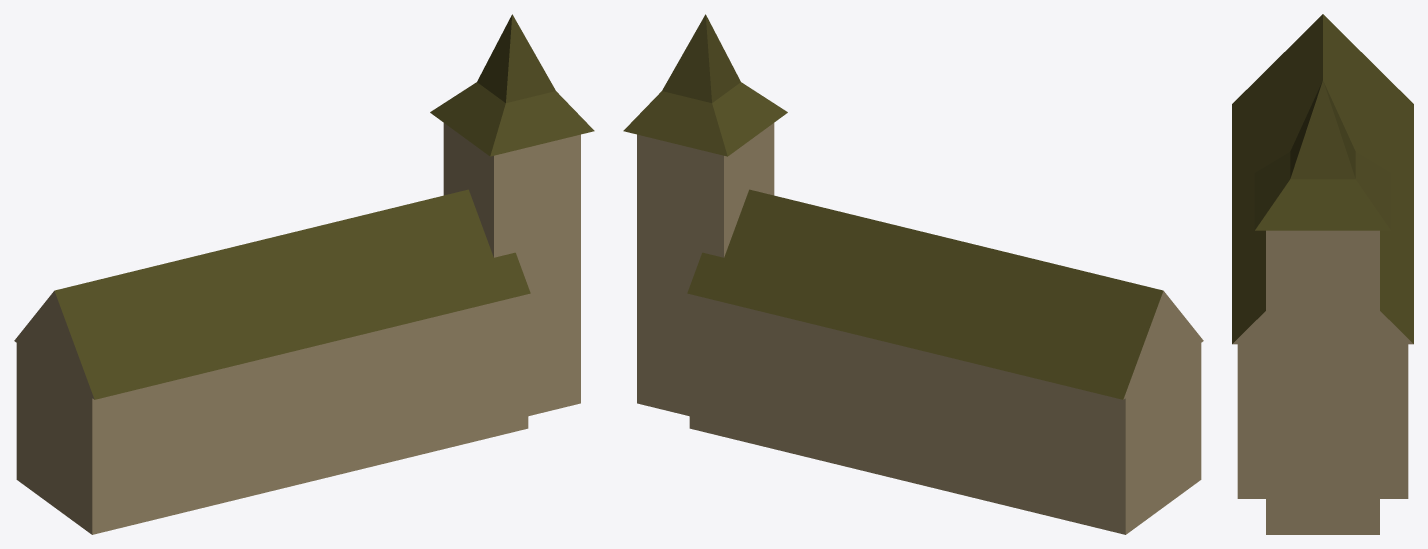
File: church.fbx
The picture shows the model from 3 angles, left to right: view 1: azimuth 30°, elevation 25°; view 2: azimuth 150°, elevation 25°; view 3: azimuth 270°, elevation 25°; orthographic projection. The views are drawn at different scales.
Visible parts, largest first — view 1: church; view 2: church; view 3: church.
Part boxes in pixels (bbox=[...]): church: bbox=[14, 14, 594, 534]; church: bbox=[623, 14, 1203, 534]; church: bbox=[1232, 14, 1413, 534].
Size of the model in its own units: 23.4 by 6.4 by 16.72.
